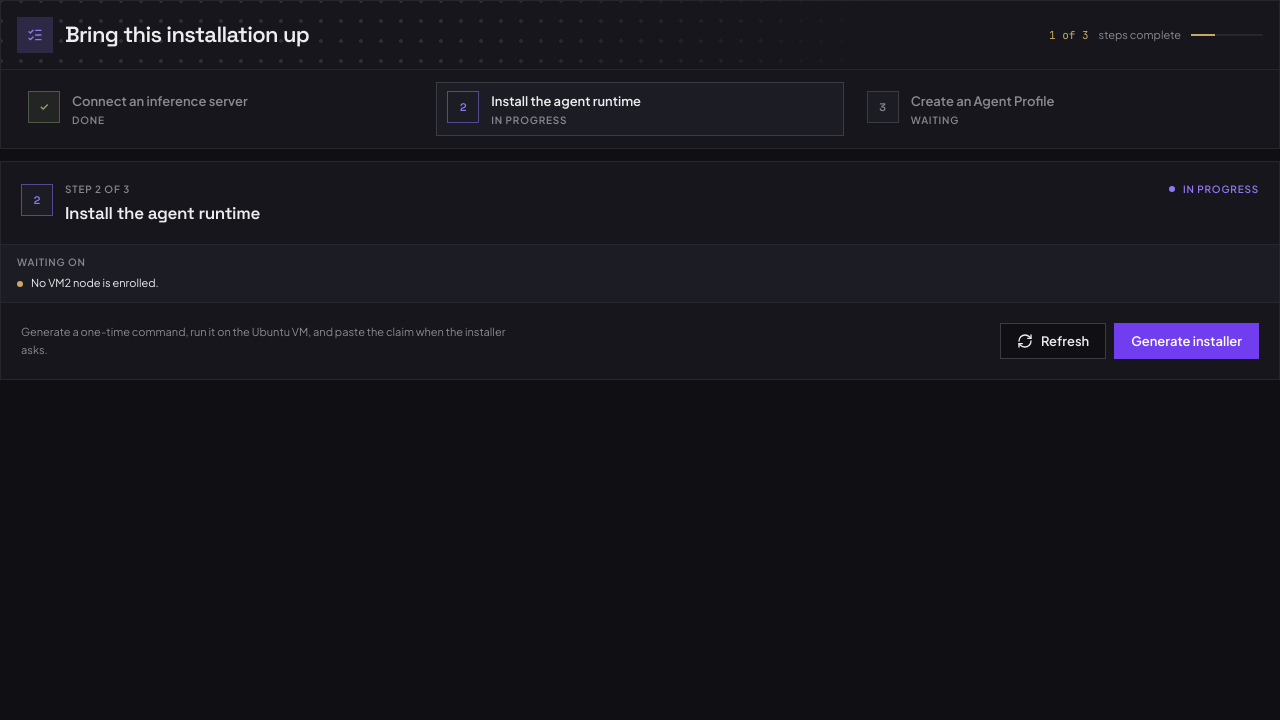
the setup wizard › moves the address when a step is opened, so a reload lands back on it
Expected: the list named "Setup steps" is shown, [17, 82, 1263, 136]
Click the button "3 Create an Agent Profile Waiting".
click(883, 107)  # box [856, 82, 1263, 136]
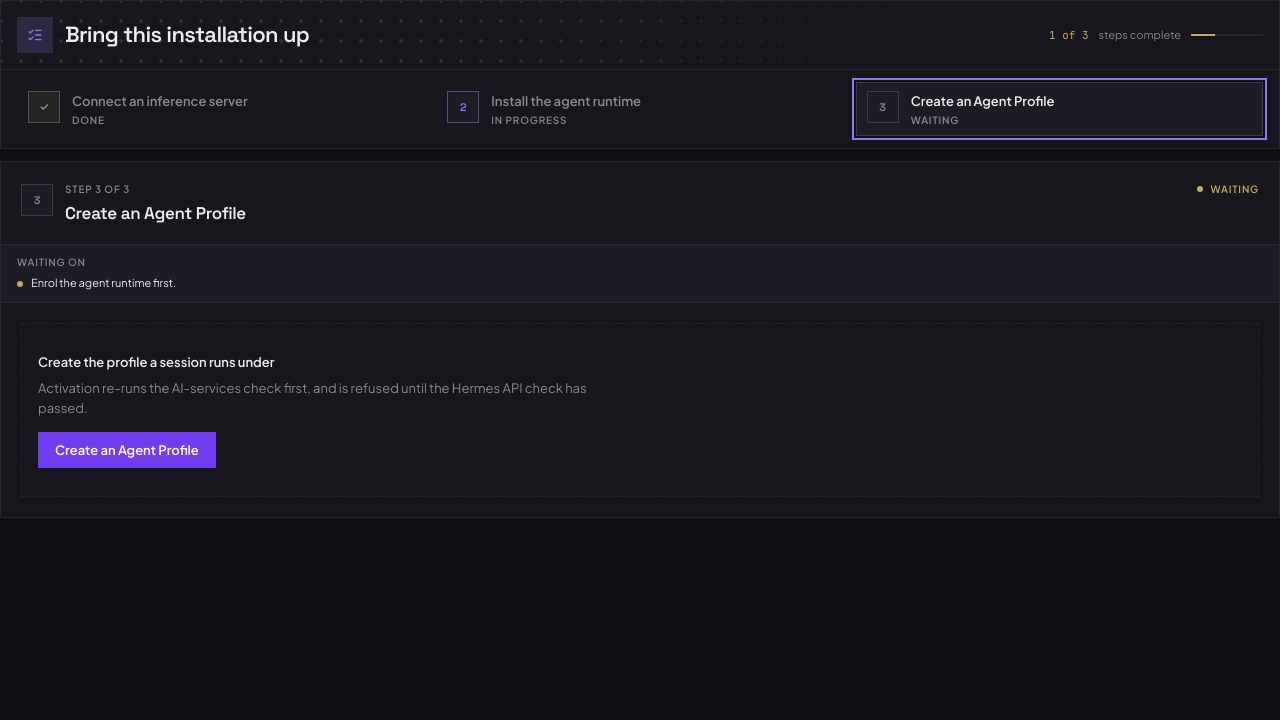
Expected: the element named "Step 3: Create an Agent Profile" is shown, [0, 161, 1279, 518]
